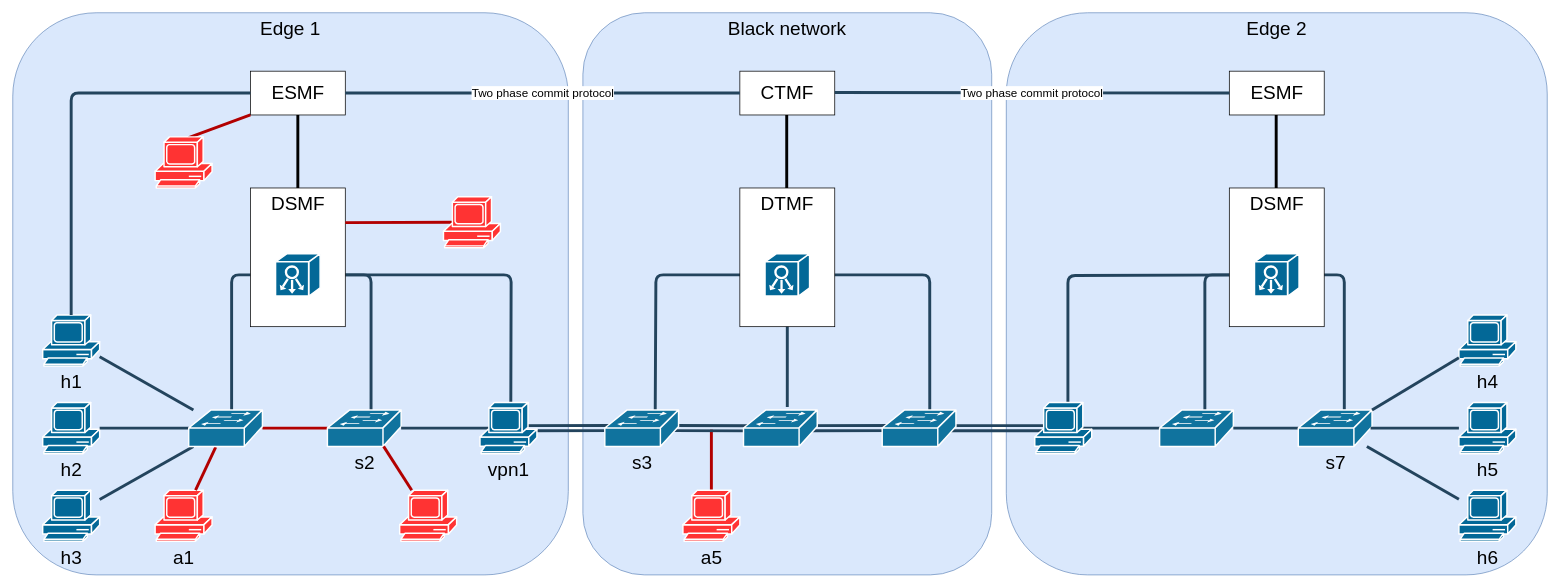
The diagram is 1560 pixels wide and 588 high, and some of its shapes have lost their labels. The shapes that lost their labels are listed below. From the top down, each one's centre as x and y in pixels, then its label:
At [183,162]: "a4".
At [471,222]: "a3".
At [297,274]: "c1".
At [787,274]: "c2".
At [1276,274]: "c3".
At [225,428]: "s1".
At [780,428]: "s4".
At [918,428]: "s5".
At [1063,428]: "vpn2".
At [1196,428]: "s6".
At [428,515]: "a2".
